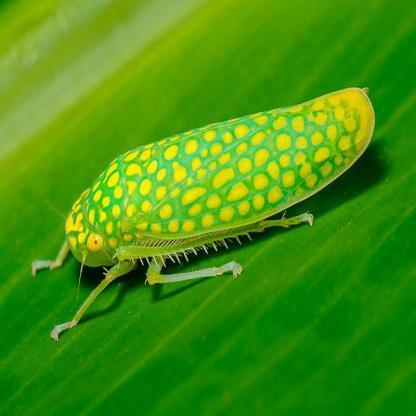green-leafhopper: (61, 86, 374, 302)
